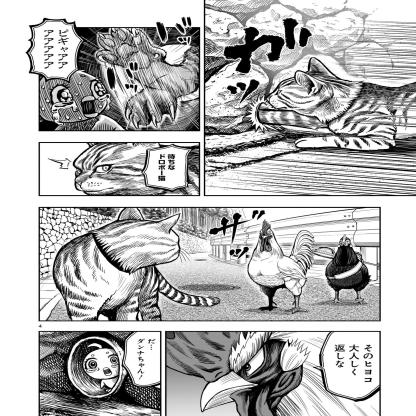sub: (39, 27, 55, 70), (57, 27, 70, 70), (361, 343, 374, 384), (347, 343, 361, 380), (135, 338, 147, 380), (332, 343, 347, 374), (156, 152, 168, 183), (166, 152, 177, 172), (146, 337, 158, 352)
